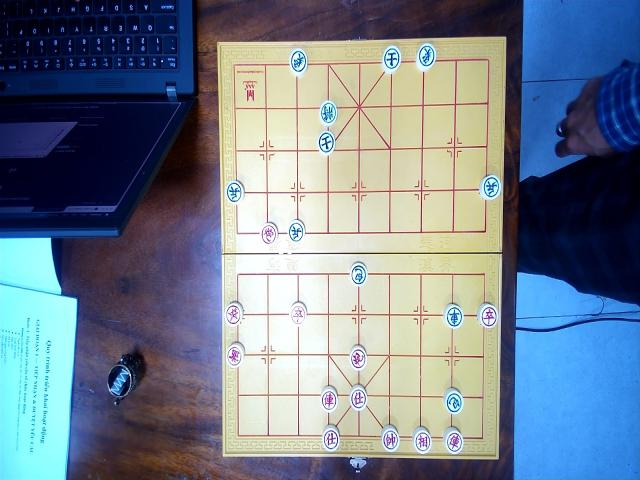piece: (476, 301, 498, 328), (478, 173, 500, 200), (442, 426, 463, 454), (412, 426, 432, 454), (443, 387, 463, 415), (381, 44, 401, 72), (416, 42, 436, 70), (380, 425, 400, 452), (225, 342, 245, 368), (322, 424, 341, 451), (349, 344, 368, 371), (289, 48, 308, 75), (443, 302, 463, 327), (225, 301, 244, 327), (320, 385, 338, 412), (349, 383, 367, 410), (225, 179, 244, 204), (349, 261, 368, 286), (319, 99, 337, 125), (317, 131, 335, 155), (290, 300, 307, 325), (260, 222, 277, 244), (288, 219, 304, 242)
